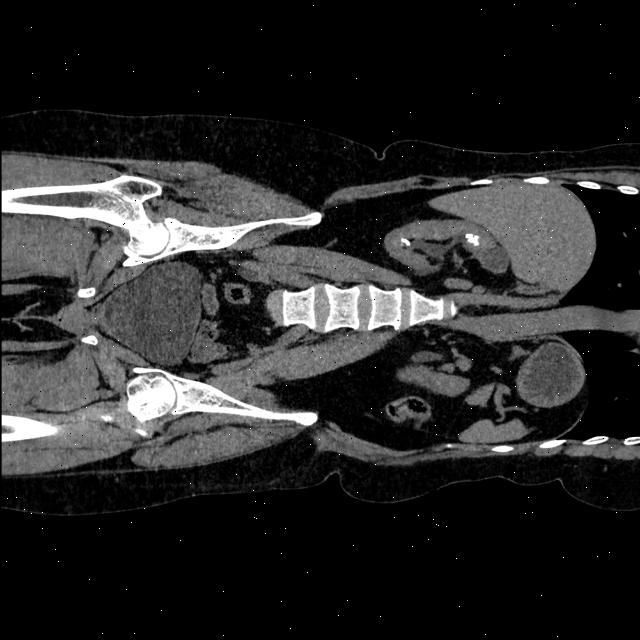kidneystone: (465, 234, 478, 246)
